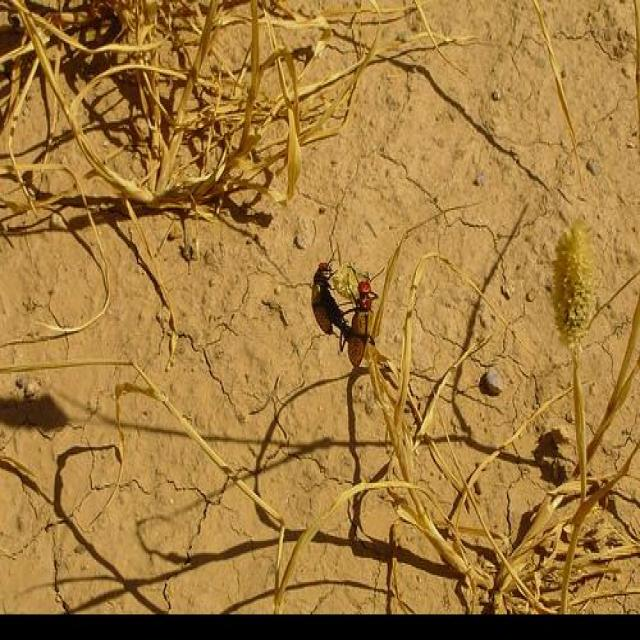BlisterBeetle-Adult-: (341, 258, 388, 376)
